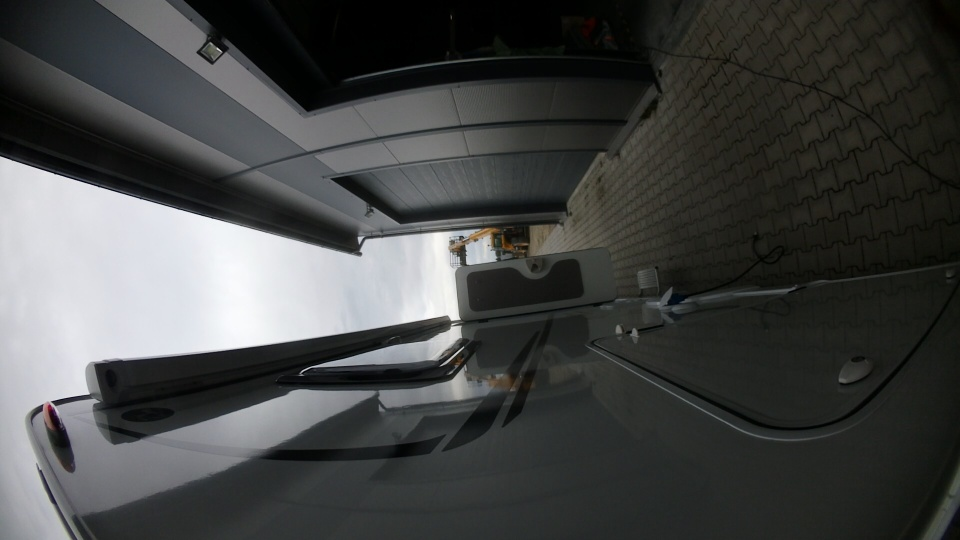door_back: (448, 241, 618, 324)
step_back: (631, 263, 665, 297)
